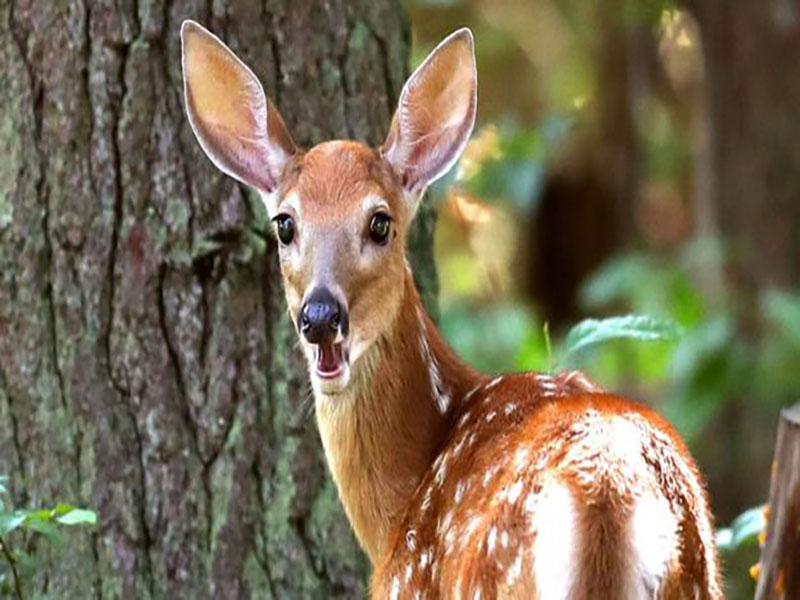cervo: (173, 11, 722, 600)
